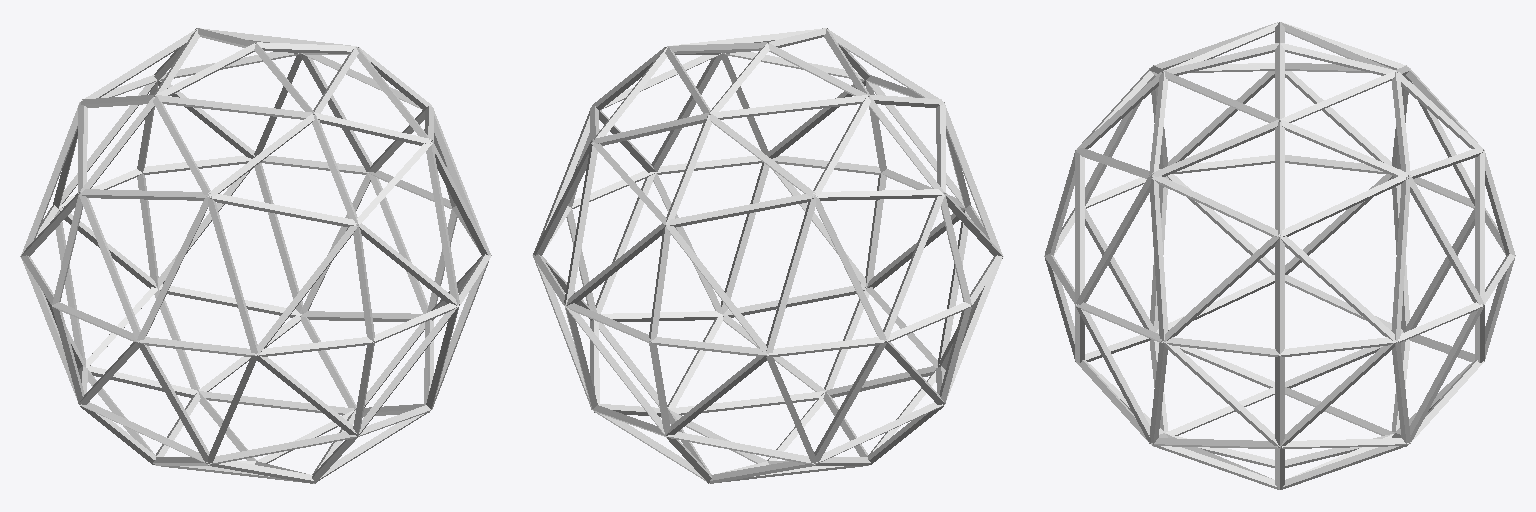
The model's file is ball.obj.
3 renders of one model, left to right at view 1: azimuth 30°, elevation 25°; view 2: azimuth 150°, elevation 25°; view 3: azimuth 270°, elevation 25°, orthographic.
Visible parts, largest first — view 1: GeoSphere002; view 2: GeoSphere002; view 3: GeoSphere002.
Part boxes in pixels (bbox=[...]): GeoSphere002: bbox=[20, 28, 491, 483]; GeoSphere002: bbox=[532, 28, 1003, 483]; GeoSphere002: bbox=[1044, 22, 1515, 489].
Bounding box in the file's own units: 0.5096 × 0.5096 × 0.5096.